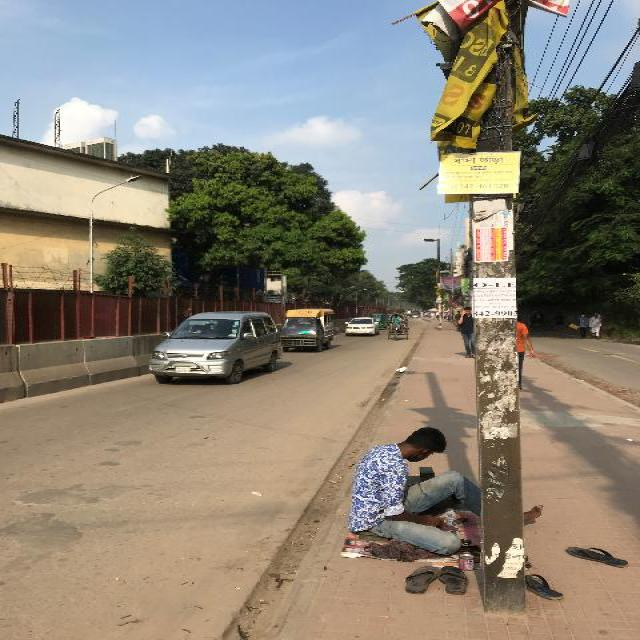bus: (279, 308, 333, 351)
car: (342, 316, 374, 336)
motorcycle: (386, 313, 406, 339), (526, 310, 546, 332), (376, 313, 387, 328)
truck: (148, 308, 275, 383)
